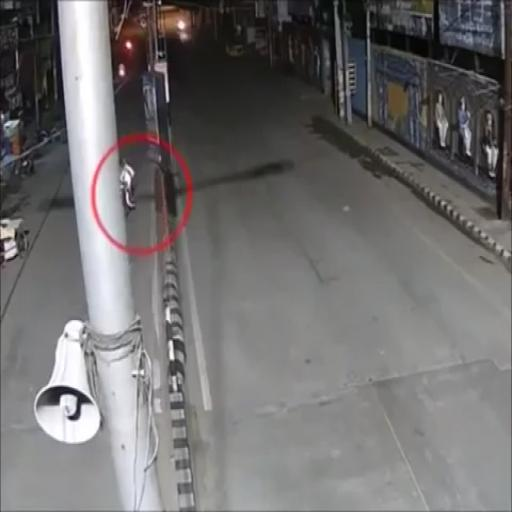自行车: (117, 153, 140, 218)
